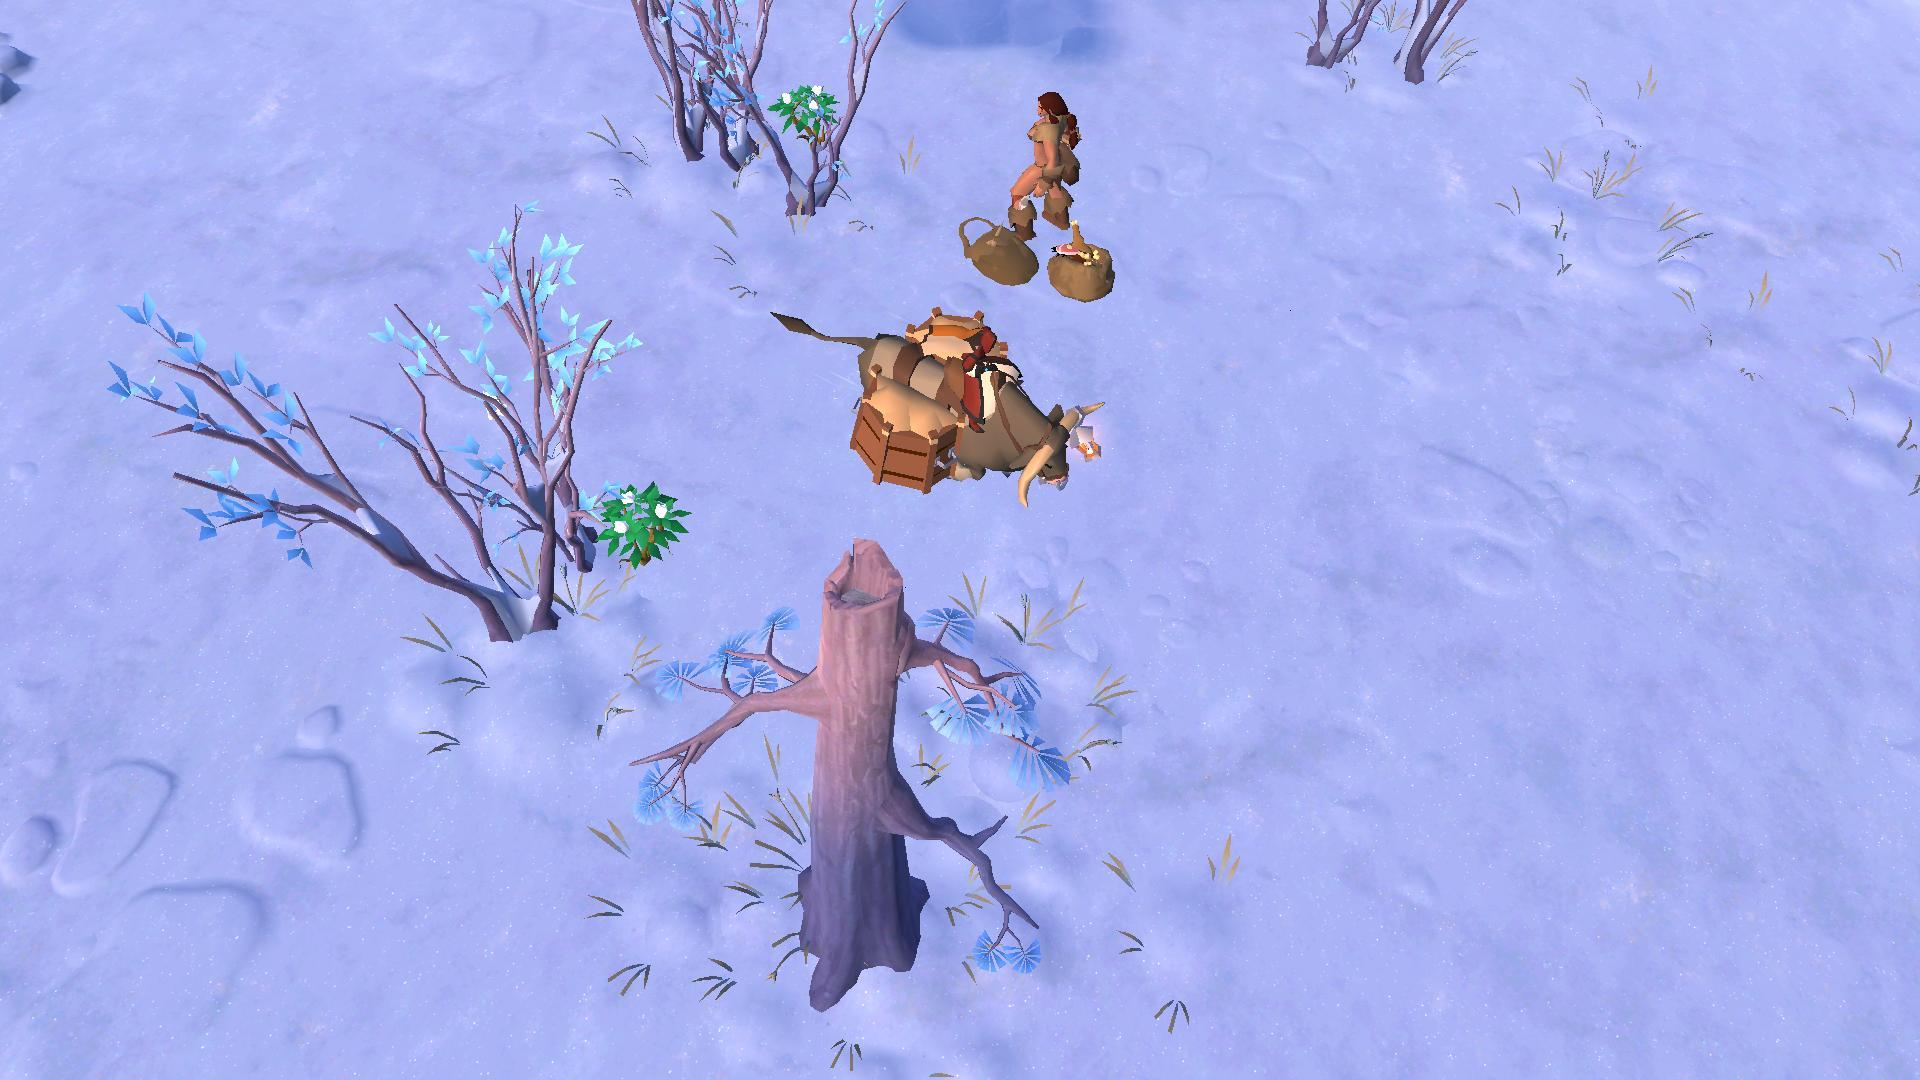enemy_factionKeeper: (1014, 88, 1087, 241)
fiber_t3: (584, 467, 692, 571), (766, 73, 843, 144)
